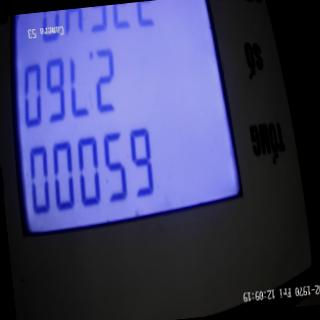screen: (0, 0, 250, 254)
